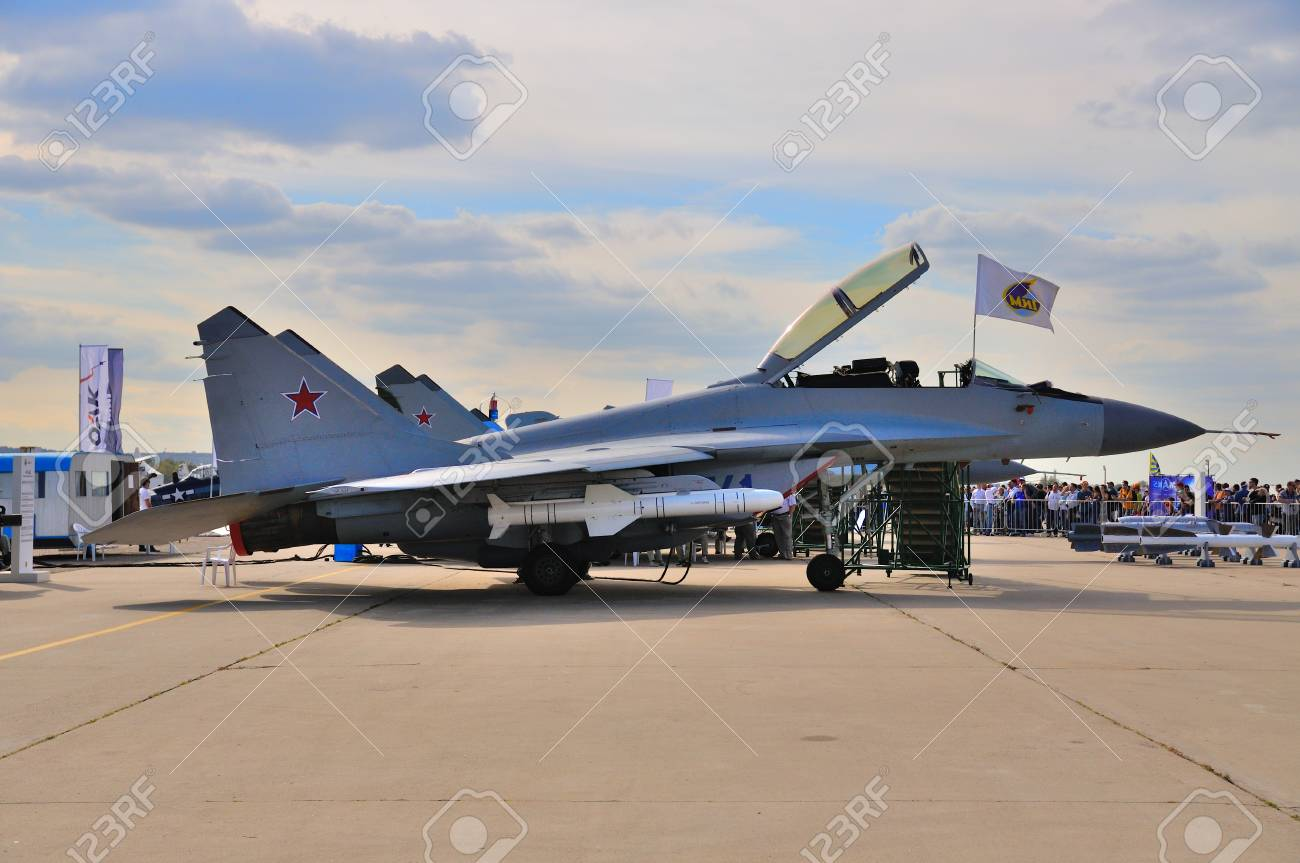Mig-29: (95, 238, 1251, 670)
